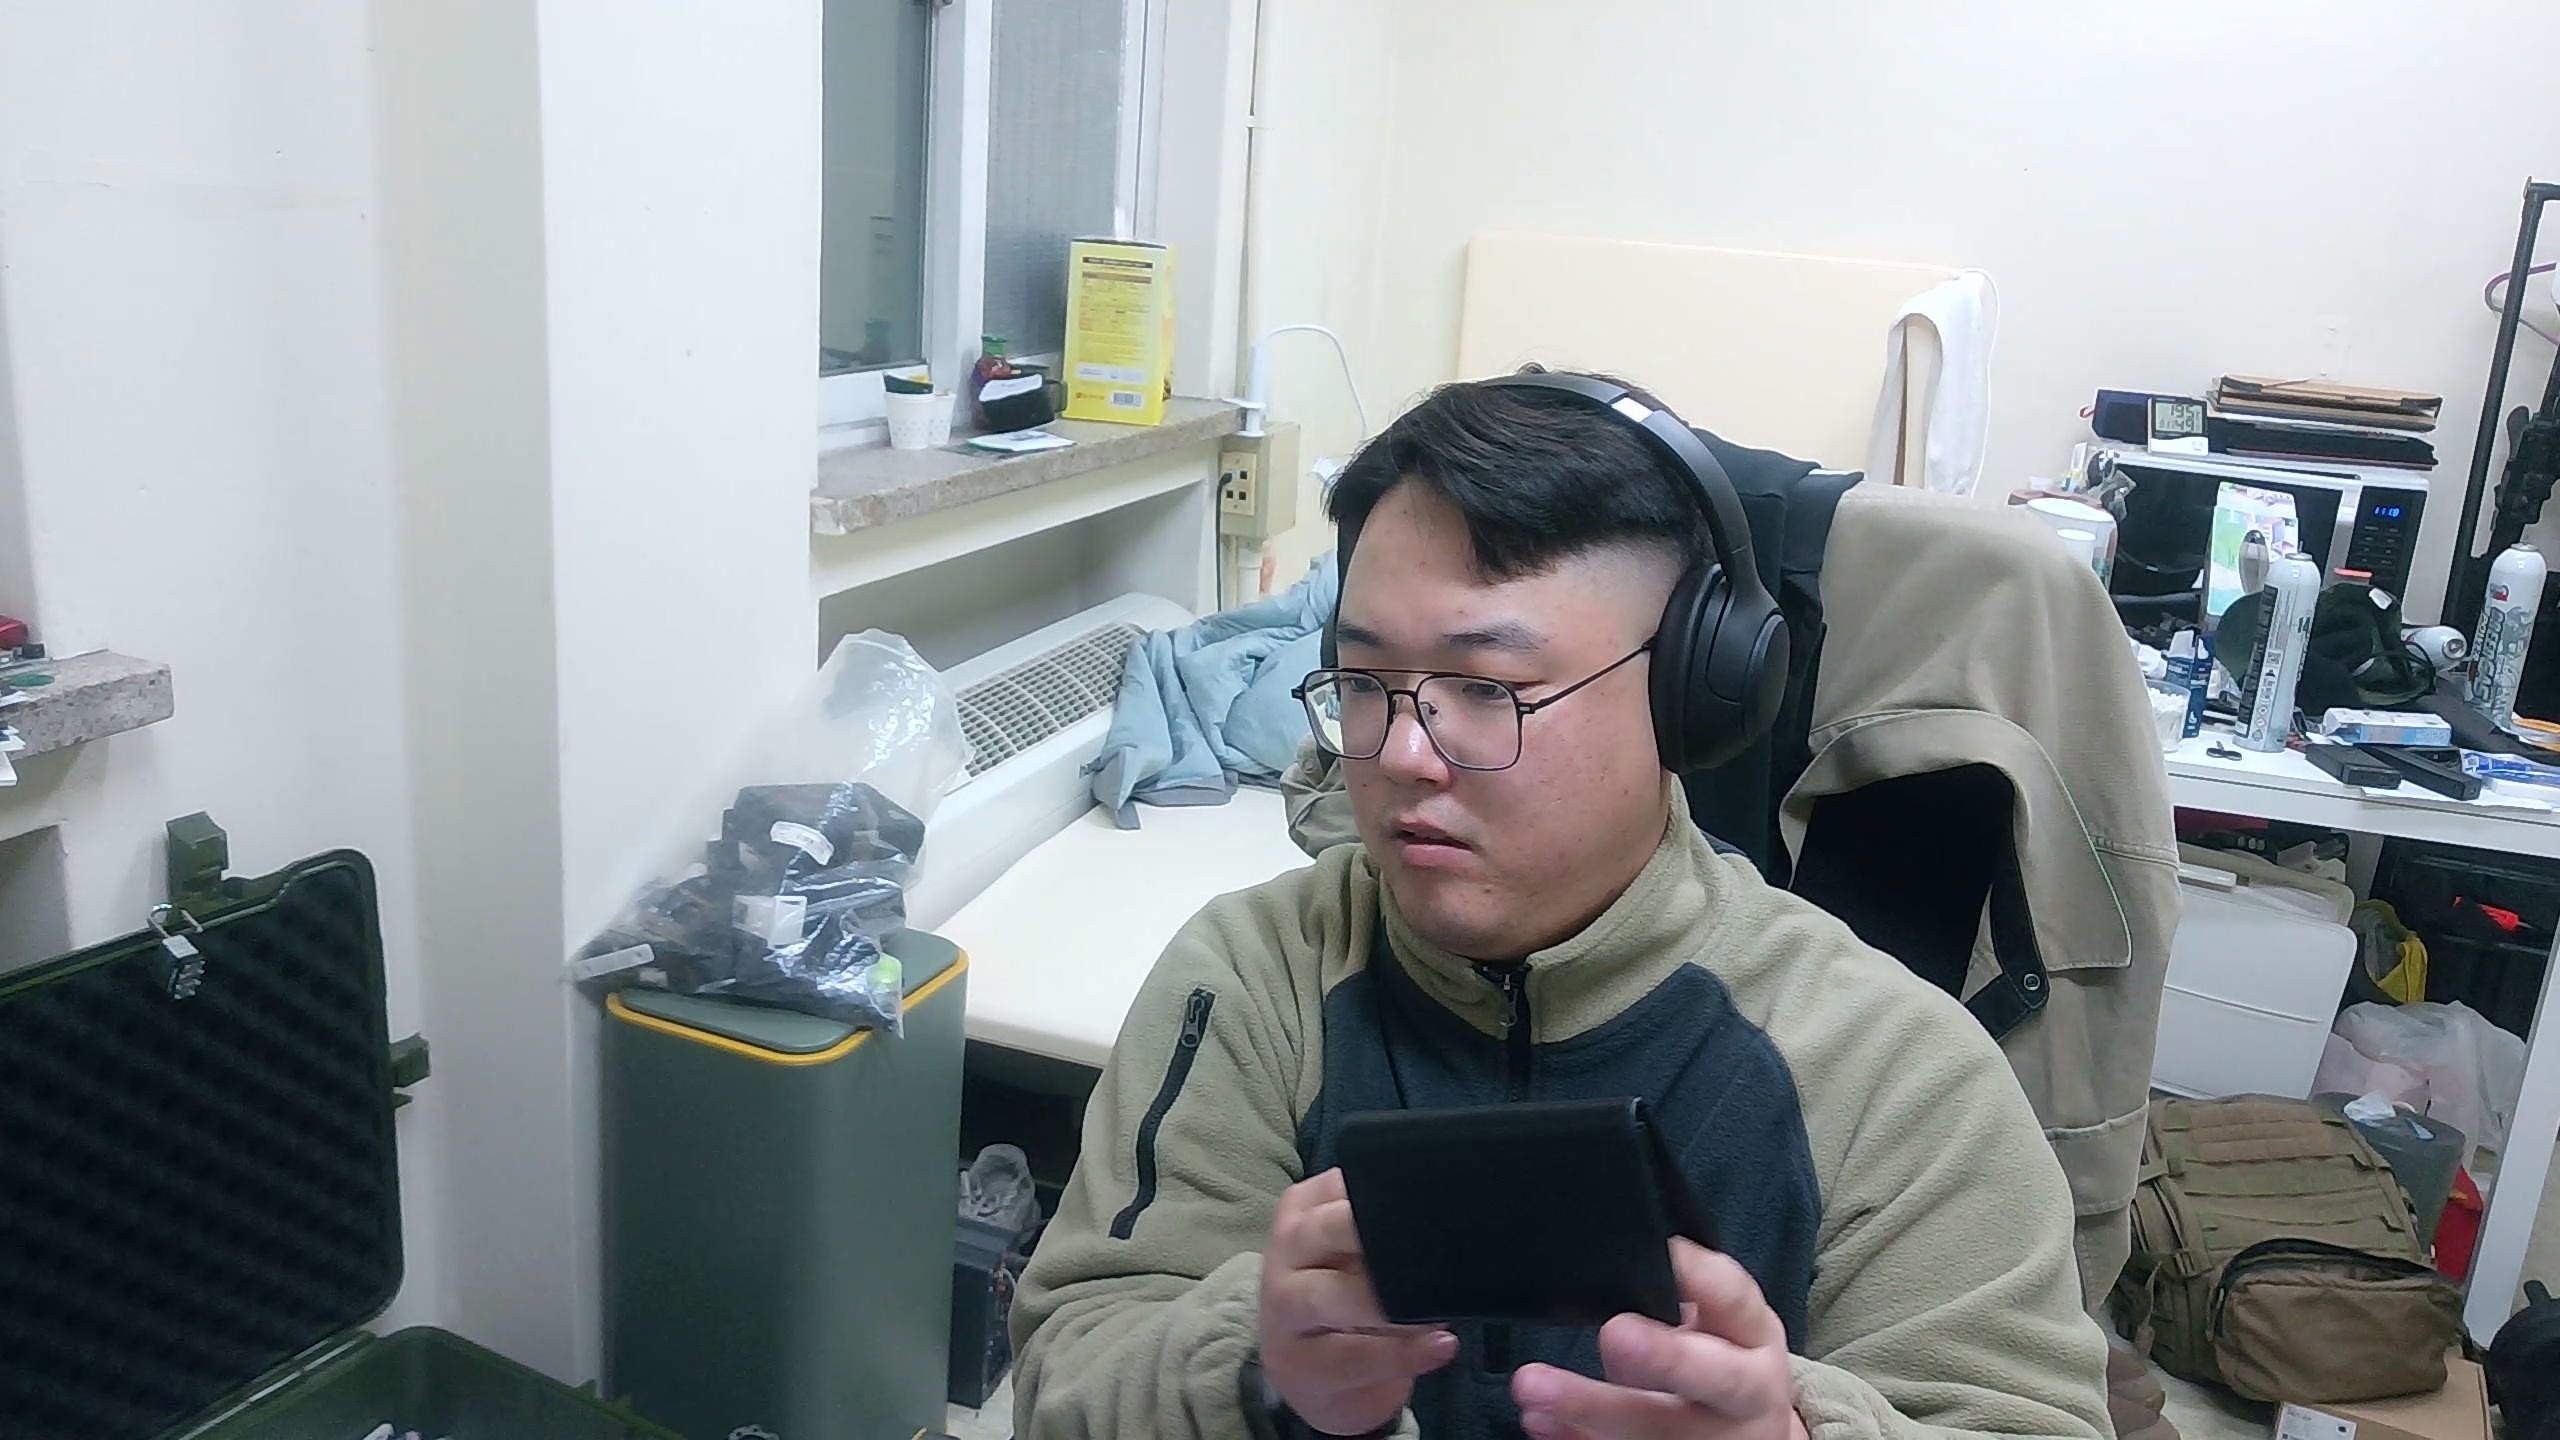earphone: (1329, 1092, 1725, 1336)
